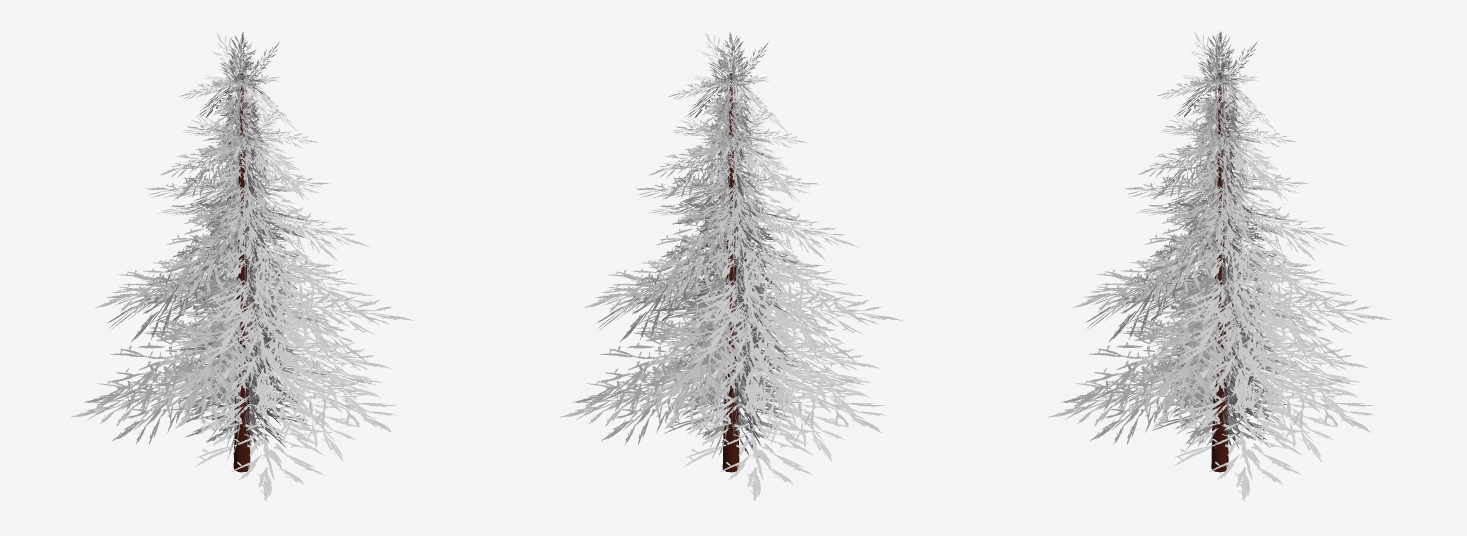
The model's file is tree_1.fbx.
3 renders of one model, left to right at view 1: azimuth 30°, elevation 25°; view 2: azimuth 150°, elevation 25°; view 3: azimuth 270°, elevation 25°, orthographic.
Parts seen in each view (by area): view 1: mesh; view 2: mesh; view 3: mesh.
Boxes of the visible parts, <box> form: mesh: <box>71,32,413,501</box>; mesh: <box>560,32,902,501</box>; mesh: <box>1048,31,1391,501</box>.
Bounding box in the file's own units: 1005 × 1119 × 1058.
